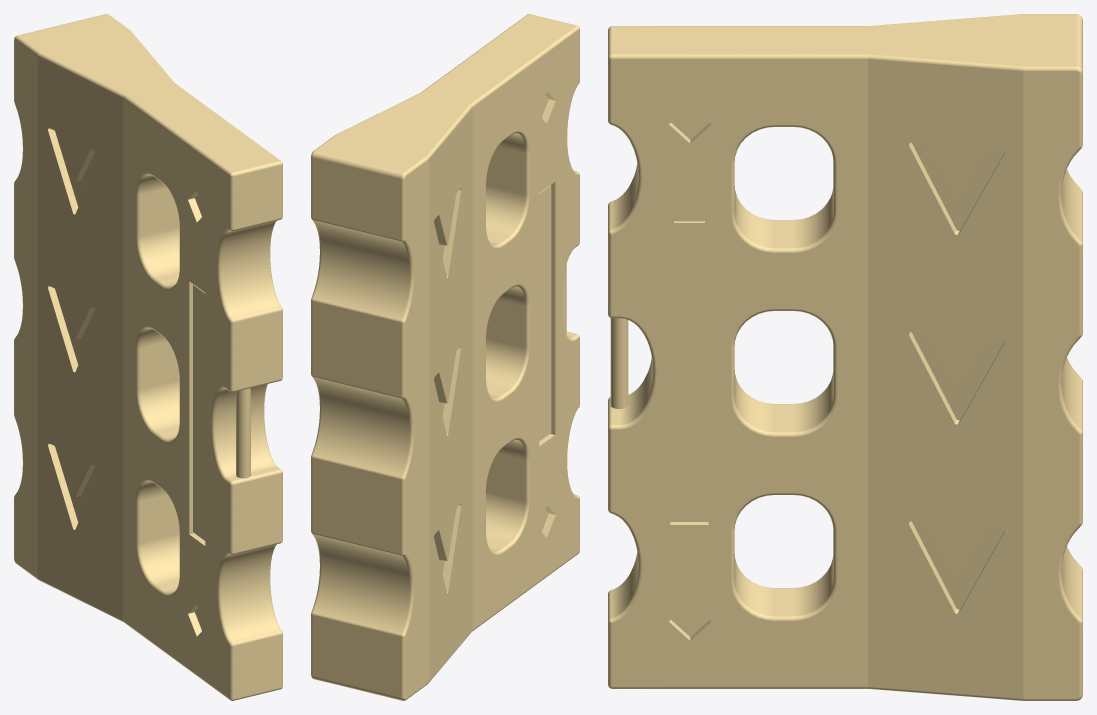
3 views of the same model, side by side, from view 1: azimuth 30°, elevation 25°; view 2: azimuth 150°, elevation 25°; view 3: azimuth 270°, elevation 25° (orthographic). The views are drawn at different scales.
Parts seen in each view (by area): view 1: Default; view 2: Default; view 3: Default.
Part boxes in pixels (left/top/right/bottom): Default: left=14, top=14, right=282, bottom=700; Default: left=311, top=14, right=579, bottom=700; Default: left=608, top=14, right=1082, bottom=700.
Size of the model in its own units: 0.2745 by 1.47 by 0.9975.
